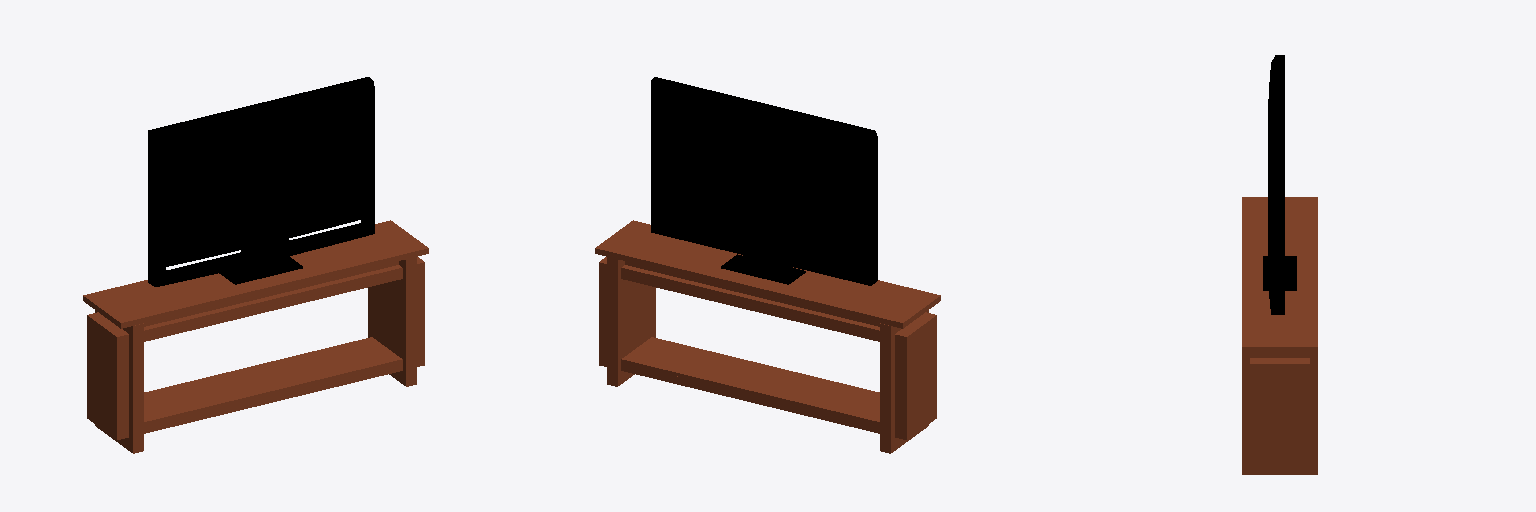
3 renders of one model, left to right at view 1: azimuth 30°, elevation 25°; view 2: azimuth 150°, elevation 25°; view 3: azimuth 270°, elevation 25°, orthographic.
Parts seen in each view (by area): view 1: HDTV_Entertainment_Center:_5inch_LCDStand1; view 2: HDTV_Entertainment_Center:_5inch_LCDStand1; view 3: HDTV_Entertainment_Center:_5inch_LCDStand1.
Boxes of the visible parts, box(x1,y1,x2,y2) form: HDTV_Entertainment_Center:_5inch_LCDStand1: box(83, 77, 428, 453); HDTV_Entertainment_Center:_5inch_LCDStand1: box(595, 77, 940, 453); HDTV_Entertainment_Center:_5inch_LCDStand1: box(1242, 55, 1317, 474).
Bounding box in the file's own units: 6.84 × 6.34 × 1.47.
Materials: 4 (3 with a texture image).